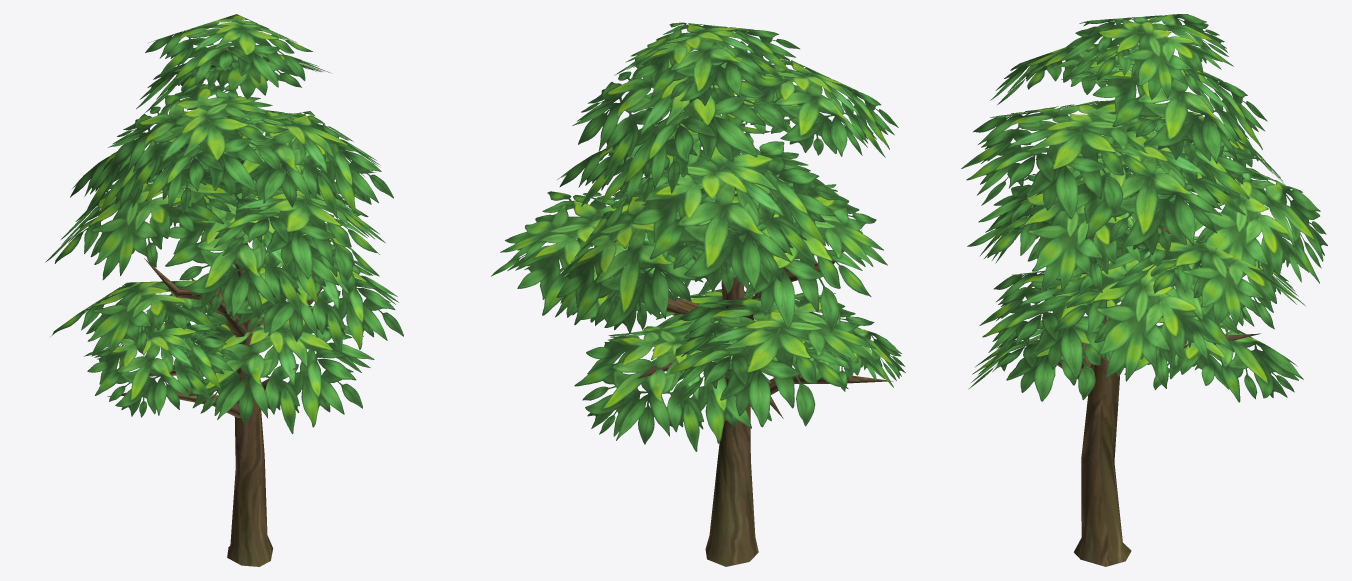
The model's file is Tree_Orange.FBX.
3 renders of one model, left to right at view 1: azimuth 30°, elevation 25°; view 2: azimuth 150°, elevation 25°; view 3: azimuth 270°, elevation 25°, orthographic. The views are drawn at different scales.
Visible parts, largest first — view 1: Tree_Orange; view 2: Tree_Orange; view 3: Tree_Orange.
Boxes of the visible parts, x1,y1,x2,y2 form: Tree_Orange: (45,14,403,566); Tree_Orange: (491,22,905,566); Tree_Orange: (961,14,1327,566).
Bounding box in the file's own units: 21.36 × 27.47 × 18.32.
1 material, 1 textured.
